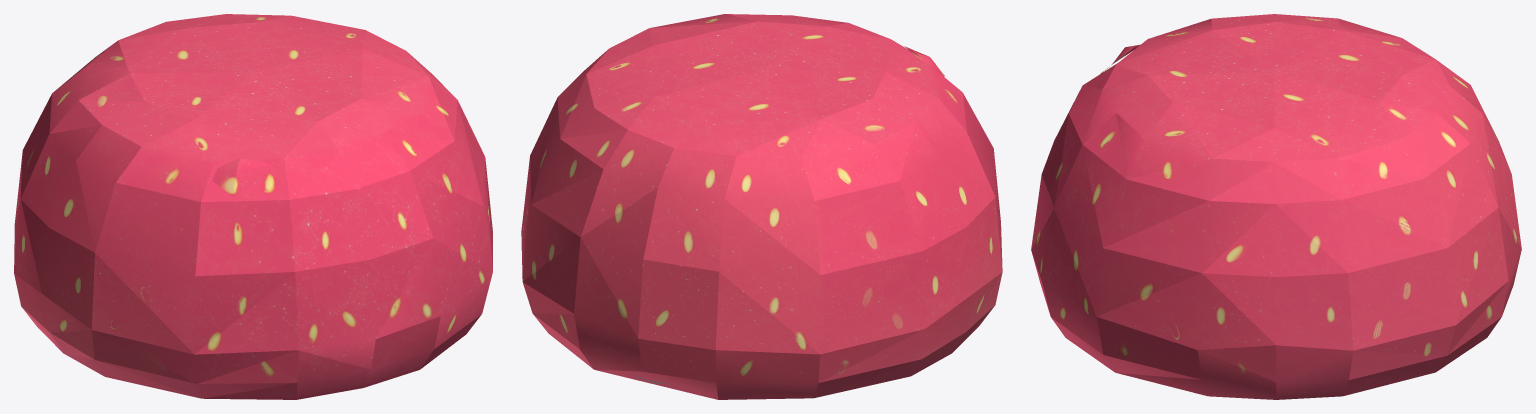
File: source.fbx
The picture shows the model from 3 angles, left to right: view 1: azimuth 30°, elevation 25°; view 2: azimuth 150°, elevation 25°; view 3: azimuth 270°, elevation 25°; orthographic projection.
Visible parts, largest first — view 1: output_unwrapped; view 2: output_unwrapped; view 3: output_unwrapped.
Boxes of the visible parts, x1,y1,x2,y2 form: output_unwrapped: (14, 14, 492, 399); output_unwrapped: (521, 14, 1002, 399); output_unwrapped: (1031, 14, 1521, 399).
Size of the model in its own units: 33.72 by 18 by 33.95.
1 material, 1 textured.
